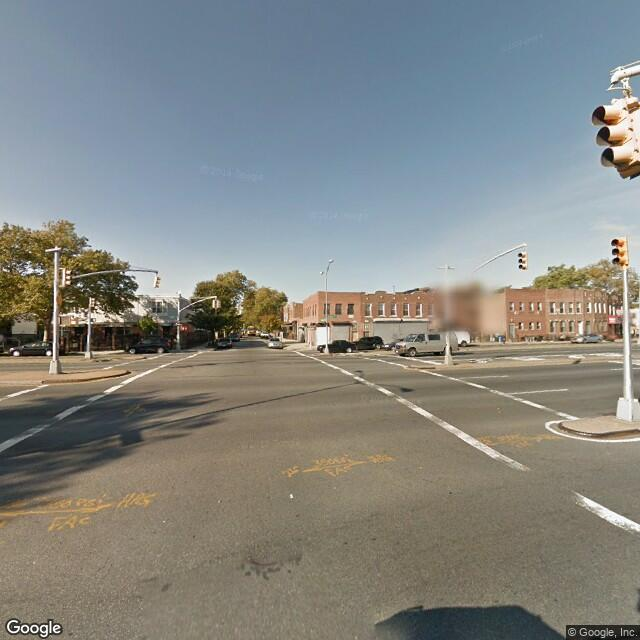litter: (284, 491, 311, 503)
